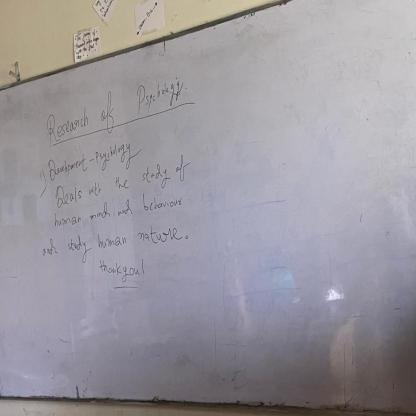Handwritten text: (34, 70, 193, 148), (44, 148, 195, 211), (35, 217, 183, 265), (45, 187, 188, 231), (41, 130, 147, 185), (94, 253, 145, 287)
